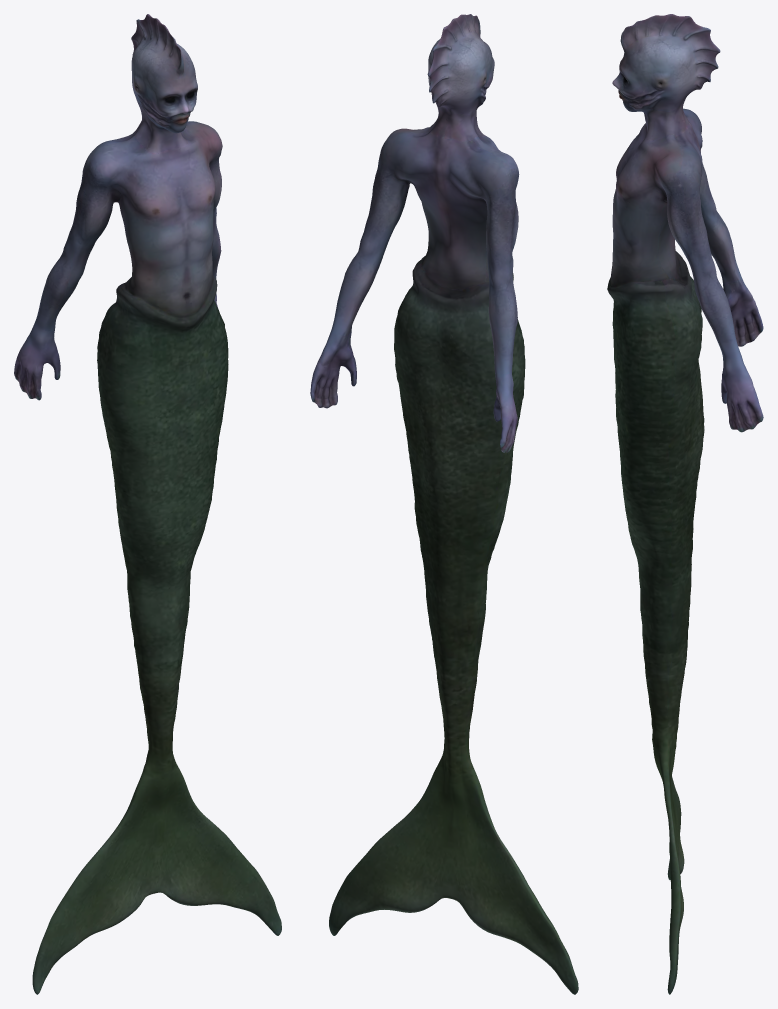
Rendered from siren.glb.
3 renders of one model, left to right at view 1: azimuth 30°, elevation 25°; view 2: azimuth 150°, elevation 25°; view 3: azimuth 270°, elevation 25°, orthographic. The views are drawn at different scales.
Visible parts, largest first — view 1: Object_2; view 2: Object_2; view 3: Object_2.
Part boxes in pixels (box(x1,y1,x2,y2)): Object_2: box(14, 14, 281, 994); Object_2: box(310, 14, 578, 994); Object_2: box(607, 14, 763, 994).
Size of the model in its own units: 2.38 by 8.68 by 1.33.
1 material, 1 textured.
